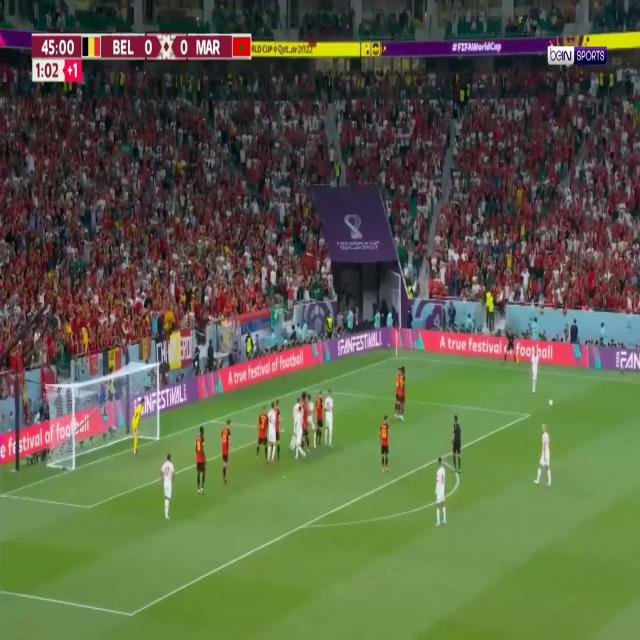Ball: (549, 398, 553, 406)
GoalKeeper: (132, 396, 145, 454)
Referee: (451, 412, 462, 474), (502, 327, 516, 369)
TEAM 1: (218, 418, 235, 486), (192, 423, 208, 495), (253, 406, 270, 467), (377, 413, 394, 472), (301, 393, 310, 454), (274, 398, 282, 463), (316, 388, 324, 448), (400, 364, 408, 422), (394, 364, 401, 420)
TEAM 2: (430, 458, 450, 529), (160, 451, 179, 521), (533, 421, 553, 486), (325, 389, 336, 447), (307, 390, 317, 451), (267, 401, 276, 468), (530, 339, 539, 396), (295, 404, 304, 461), (292, 396, 301, 414)
